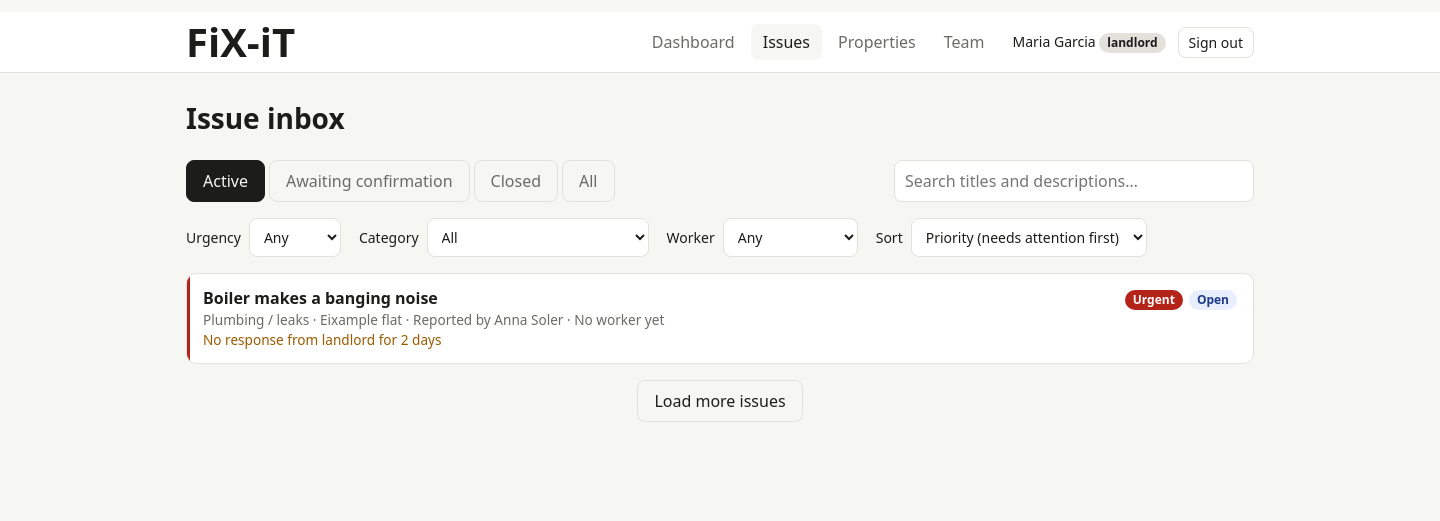
Test: pagination › the inbox loads the next page with page.nextCursor when 'Load more' is pressed
The width and height of the screenshot is (1440, 521).
expect the text "Boiler makes a banging noise" is shown: met, box [203,286,438,310]
expect the text "Front door lock sticks" is not shown: met
Click the button "Load more issues": [720, 401] box [637,380,803,422]
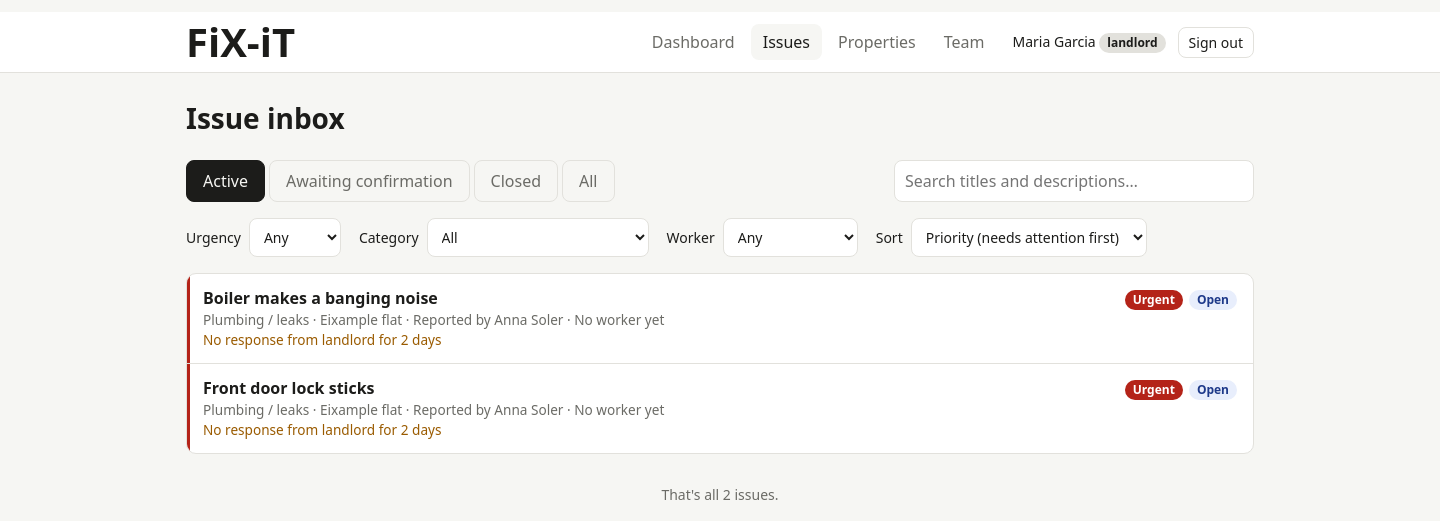
expect the text "Front door lock sticks" is shown: met, box [203,376,375,400]
expect the button "Load more issues" is gone: met
expect the text "That's all 2 issues." is shown: met, box [661,484,778,505]
